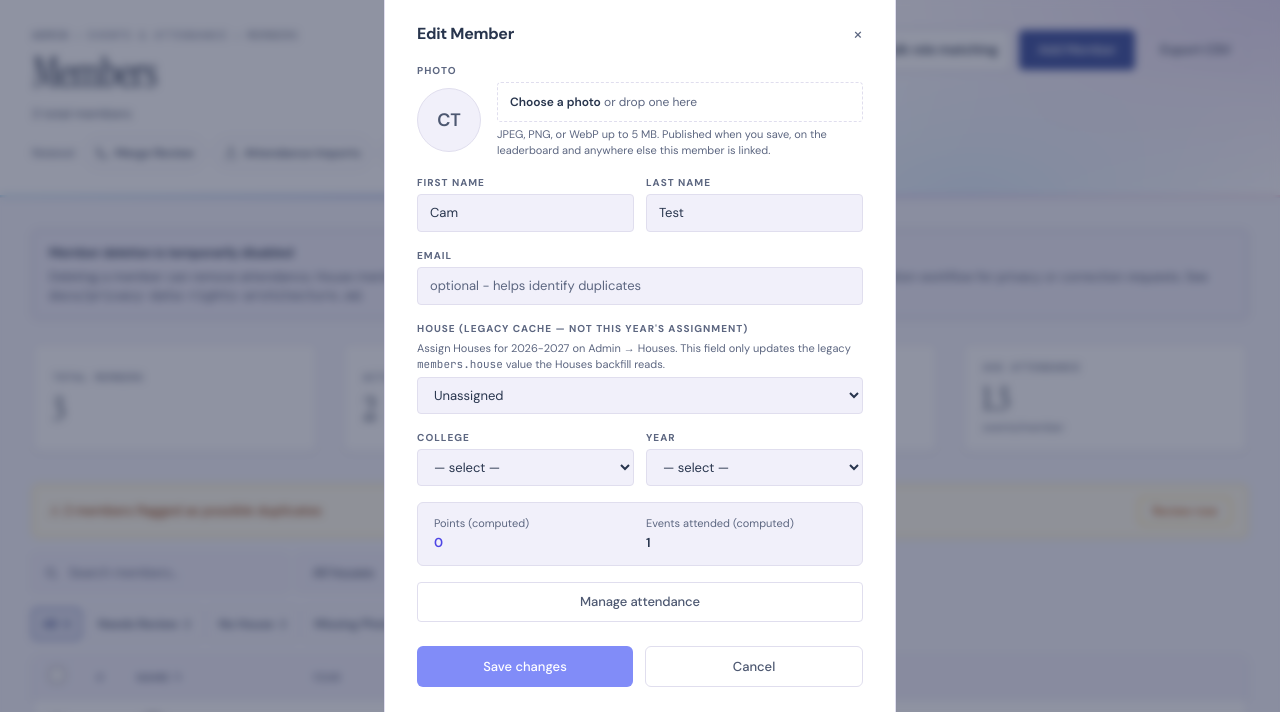
Test: discarding unsaved edits › does not ask when nothing changed
Check: the heading "Edit Member" is shown, box [417,25,514,43]
Click the button "Cancel". click: (754, 667)
box: [645,646,863,687]
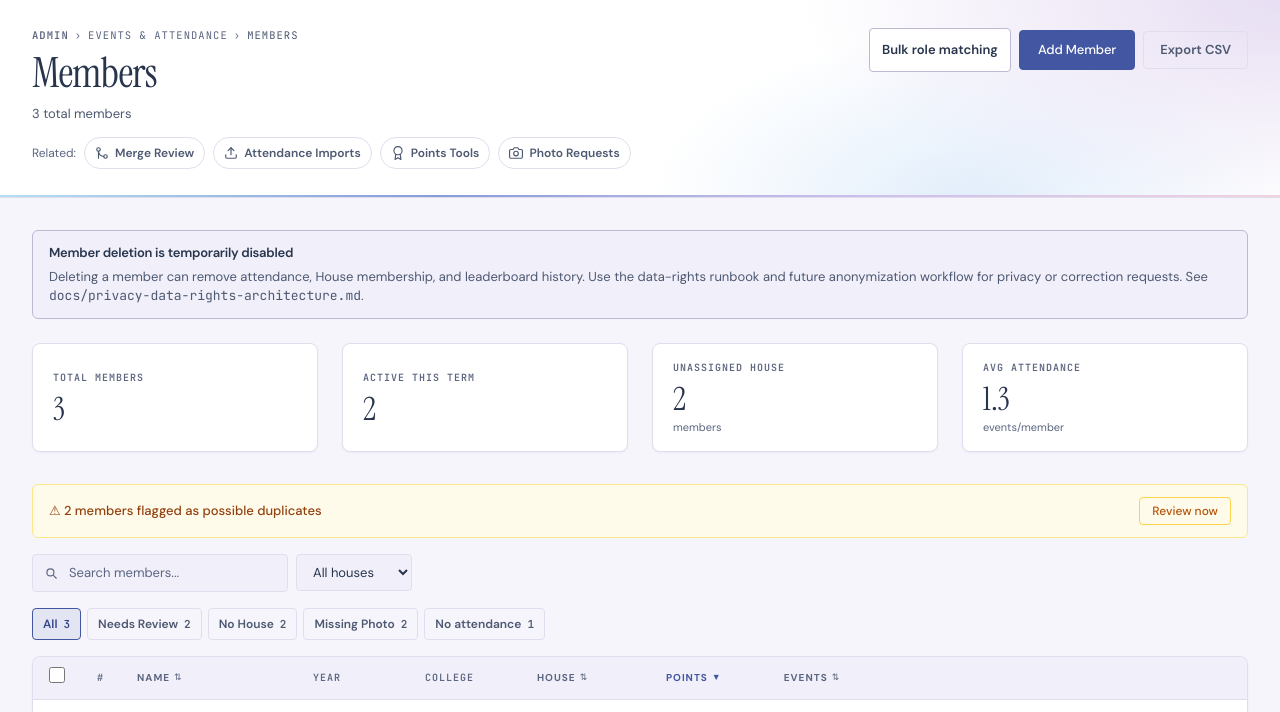
Check: the heading "Edit Member" is gone
